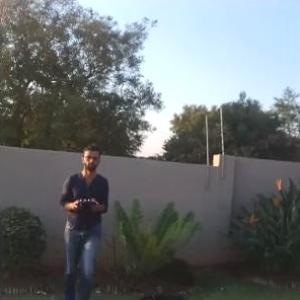follow: (57, 132, 116, 299)
